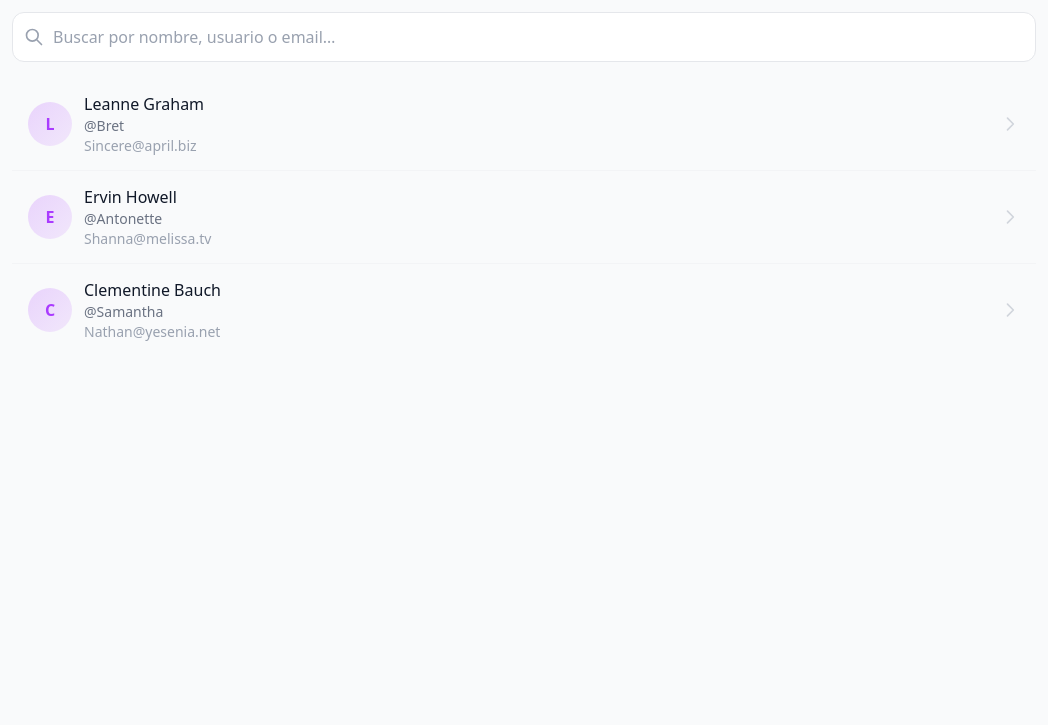
Test: Pagination › does not show pagination when user has 3 posts
Click the heading "Leanne Graham". click: [144, 104]
box: x1=84 y1=93 x2=204 y2=115
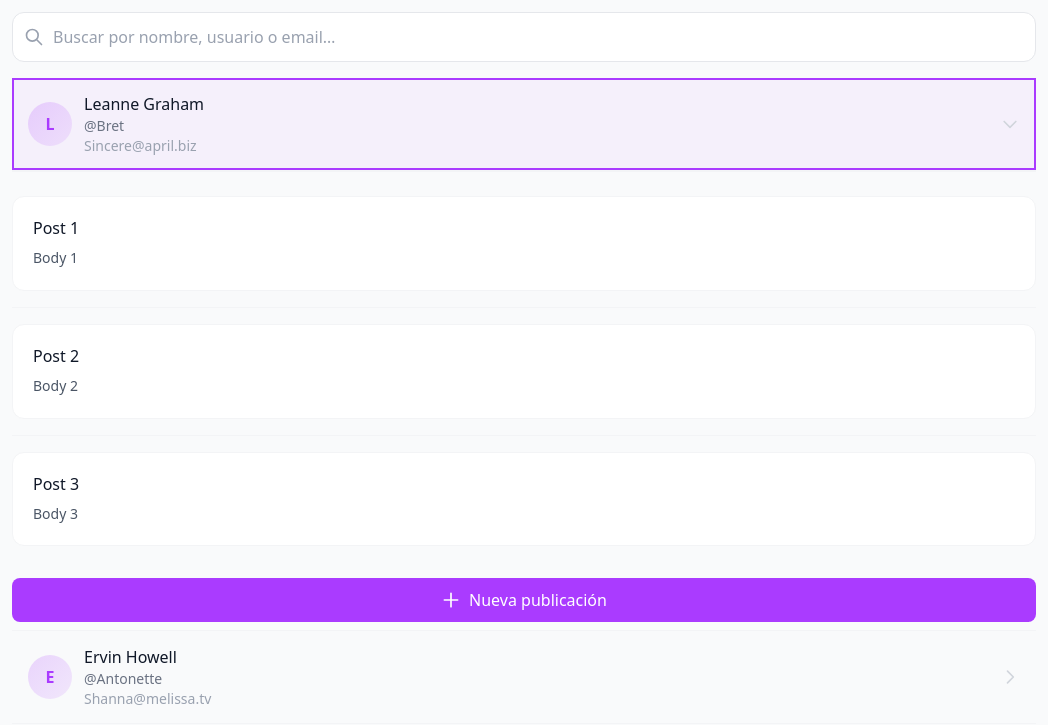
Now the heading "Post 1" is shown, box x1=33 y1=217 x2=79 y2=239
